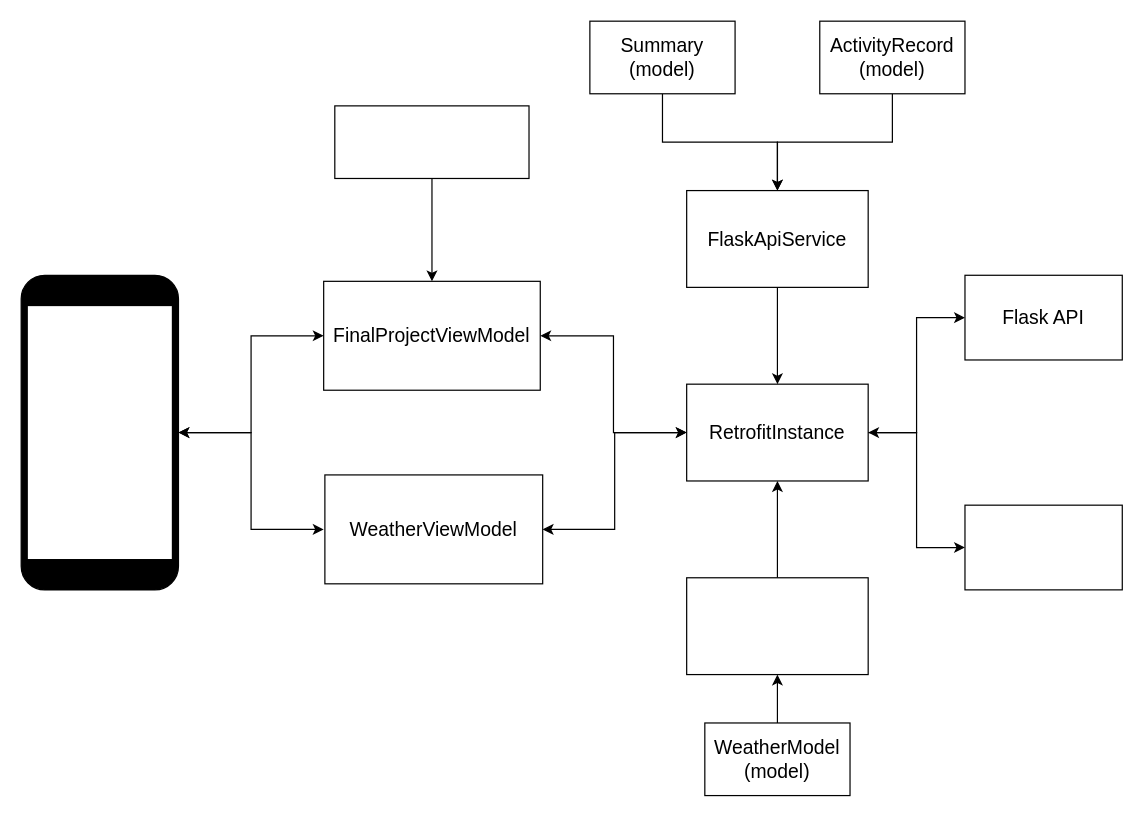
Image size: 1143x817. Some labels were removed from this diagram. Here are the shapes that lost their labels. From the top down, the box of each, then its label:
(334, 105, 529, 178): RecordFormUiState
(26, 304, 172, 560): Screens
(964, 504, 1122, 590): Weather API
(685, 577, 868, 675): WeatherApiService
